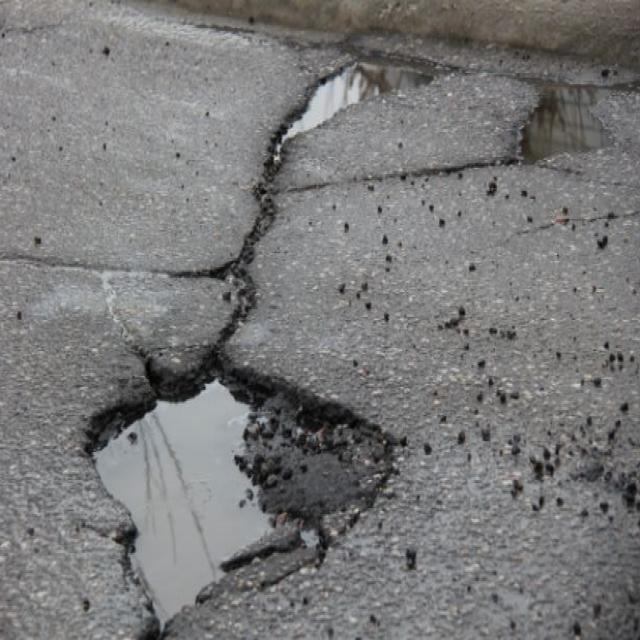Pothole: (83, 350, 410, 638)
